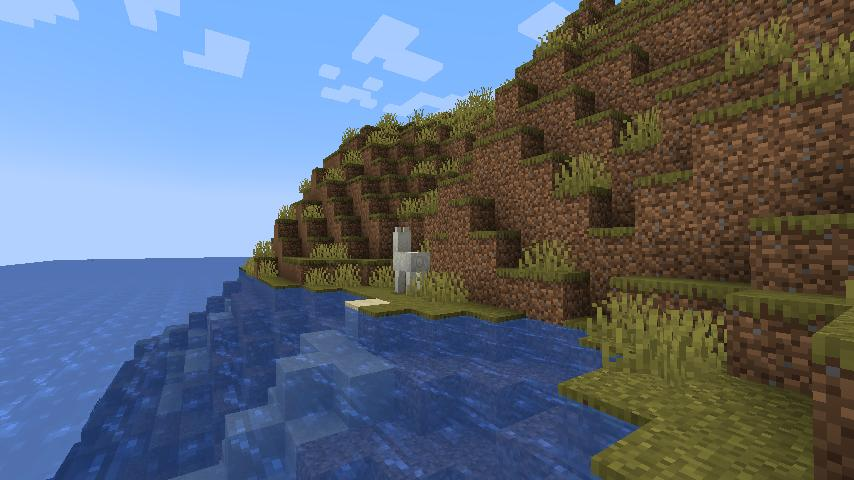llama: (390, 225, 434, 297)
